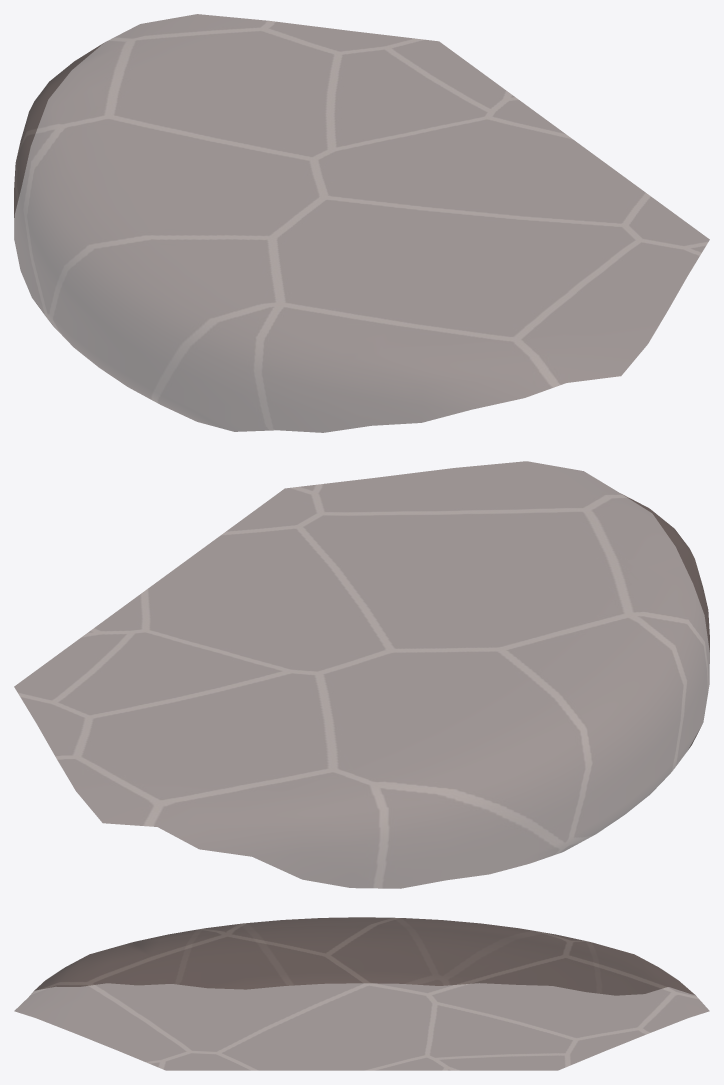
Rendered from water.glb.
3 renders of one model, top to bottom at view 1: azimuth 30°, elevation 25°; view 2: azimuth 150°, elevation 25°; view 3: azimuth 270°, elevation 25°, orthographic. The views are drawn at different scales.
Visible parts, largest first — view 1: Ocean.003; view 2: Ocean.003; view 3: Ocean.003.
Part boxes in pixels (x1,y1,x2,y2): Ocean.003: (14, 14, 709, 432); Ocean.003: (14, 461, 709, 888); Ocean.003: (14, 917, 709, 1070).
Size of the model in its own units: 0.8722 by 0.193 by 1.51.
1 material, 1 textured.
